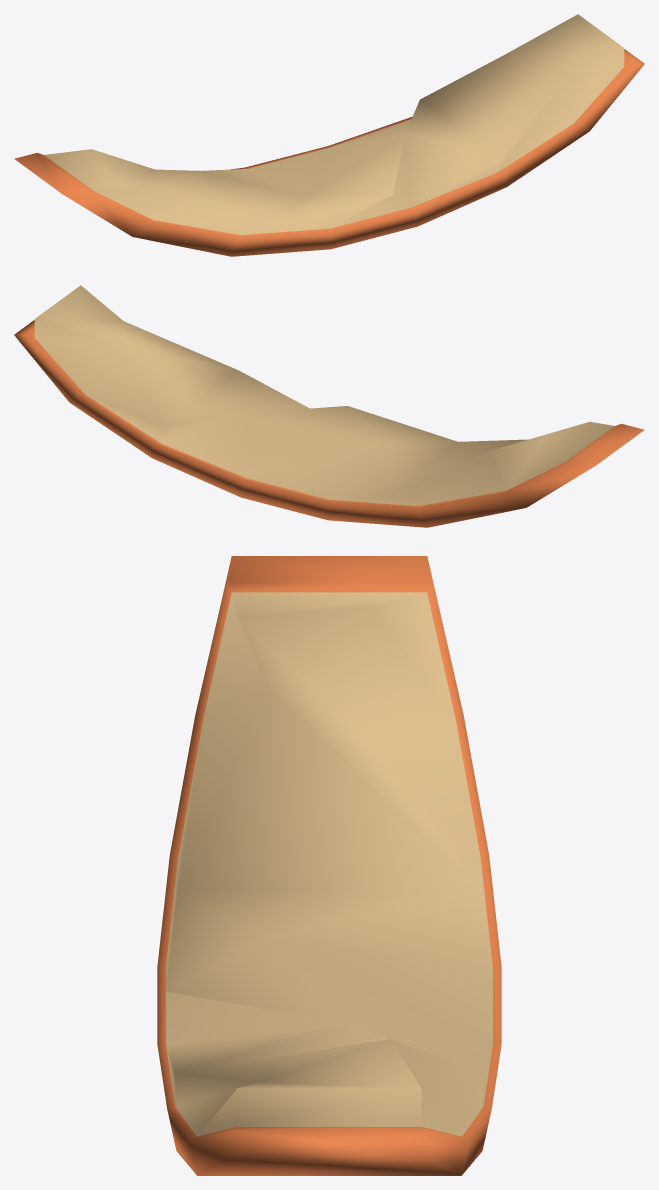
File: Orangeslice.fbx
3 renders of one model, top to bottom at view 1: azimuth 30°, elevation 25°; view 2: azimuth 150°, elevation 25°; view 3: azimuth 270°, elevation 25°, orthographic. The views are drawn at different scales.
Visible parts, largest first — view 1: OrangeSlice; view 2: OrangeSlice; view 3: OrangeSlice.
Part boxes in pixels (x1,y1,x2,y2): OrangeSlice: (14,14,644,256); OrangeSlice: (14,285,644,527); OrangeSlice: (157,556,501,1175).
Bounding box in the file's own units: 33.98 × 6.27 × 8.67.
